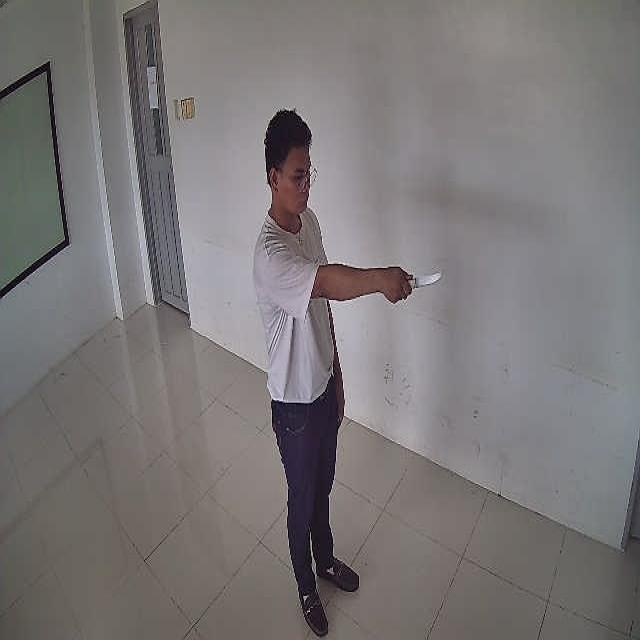knife: (410, 270, 444, 290)
